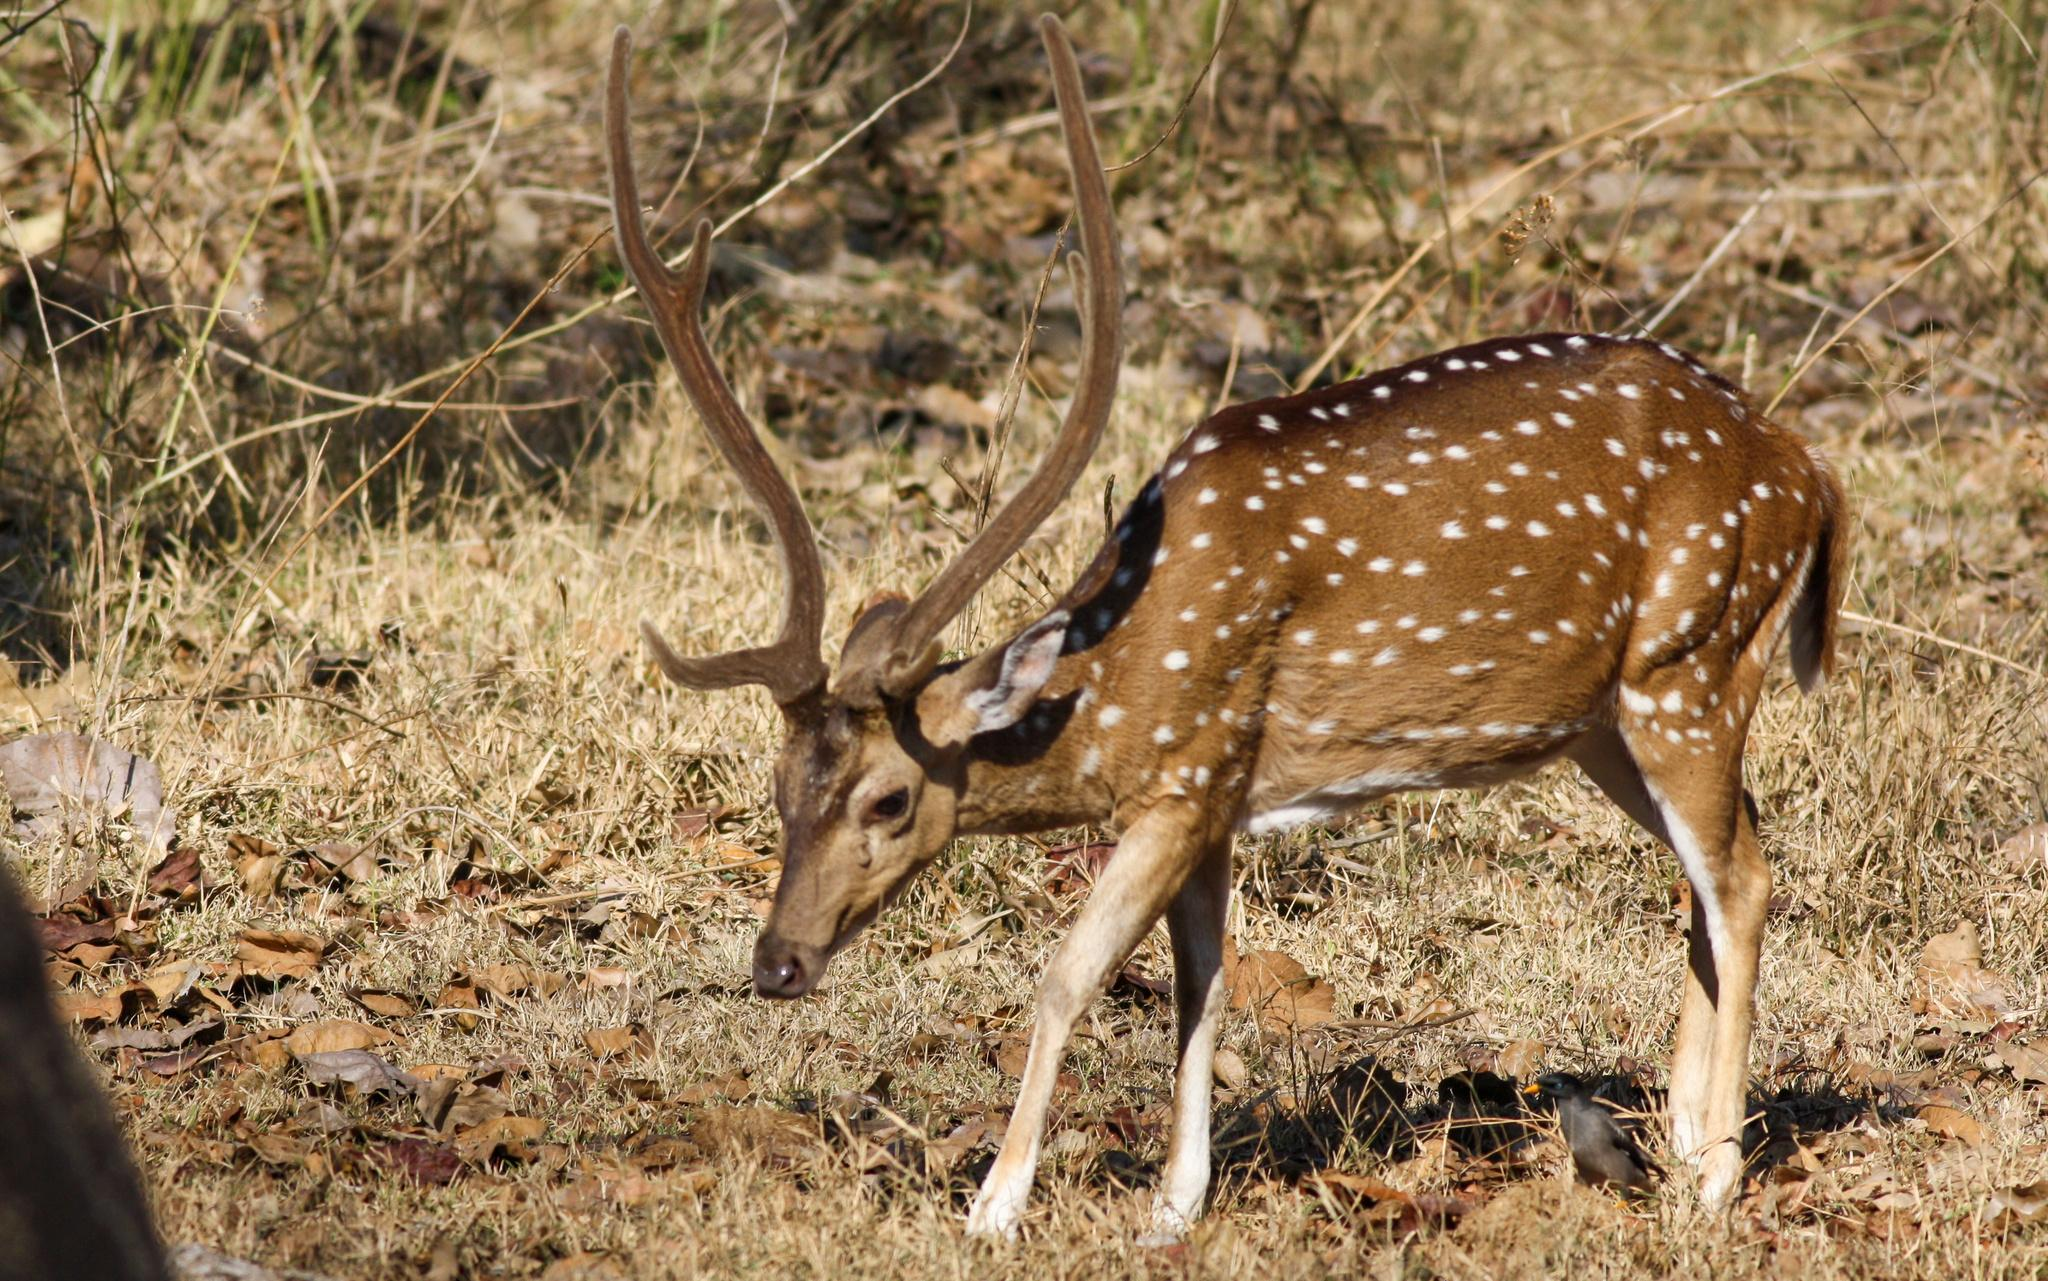Deer: (606, 15, 1844, 1238)
